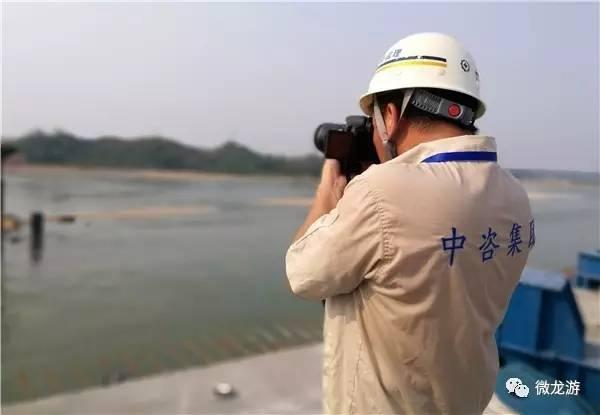helmet: (359, 30, 488, 124)
